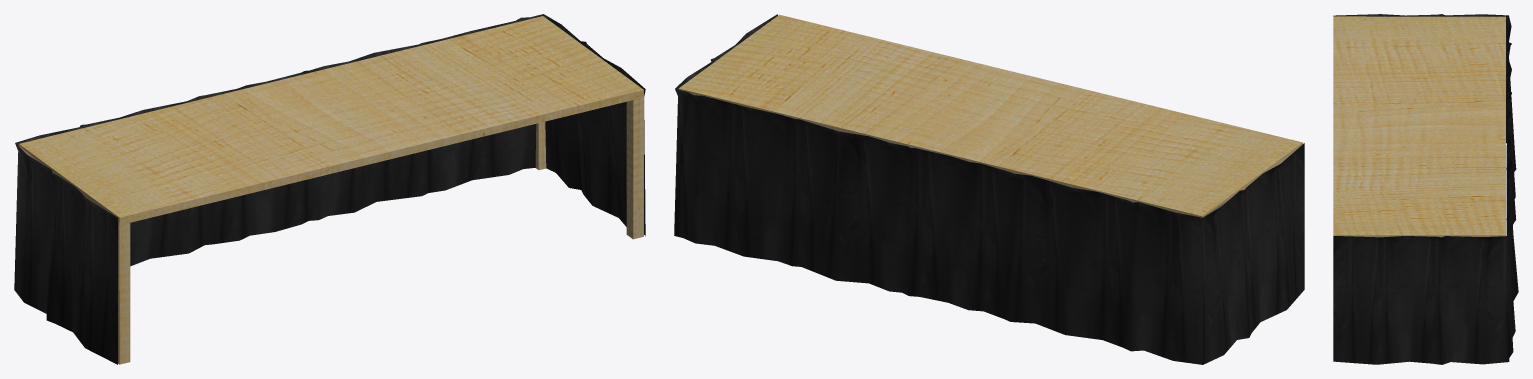
The model's file is guestTable.FBX.
The picture shows the model from 3 angles, left to right: view 1: azimuth 30°, elevation 25°; view 2: azimuth 150°, elevation 25°; view 3: azimuth 270°, elevation 25°; orthographic projection. The views are drawn at different scales.
Visible parts, largest first — view 1: guestTable; view 2: guestTable; view 3: guestTable.
Part boxes in pixels (box(x1,y1,x2,y2)): guestTable: box(14, 14, 645, 364); guestTable: box(674, 14, 1304, 364); guestTable: box(1333, 14, 1518, 364).
Size of the model in its own units: 3.99 by 1.03 by 1.38.
